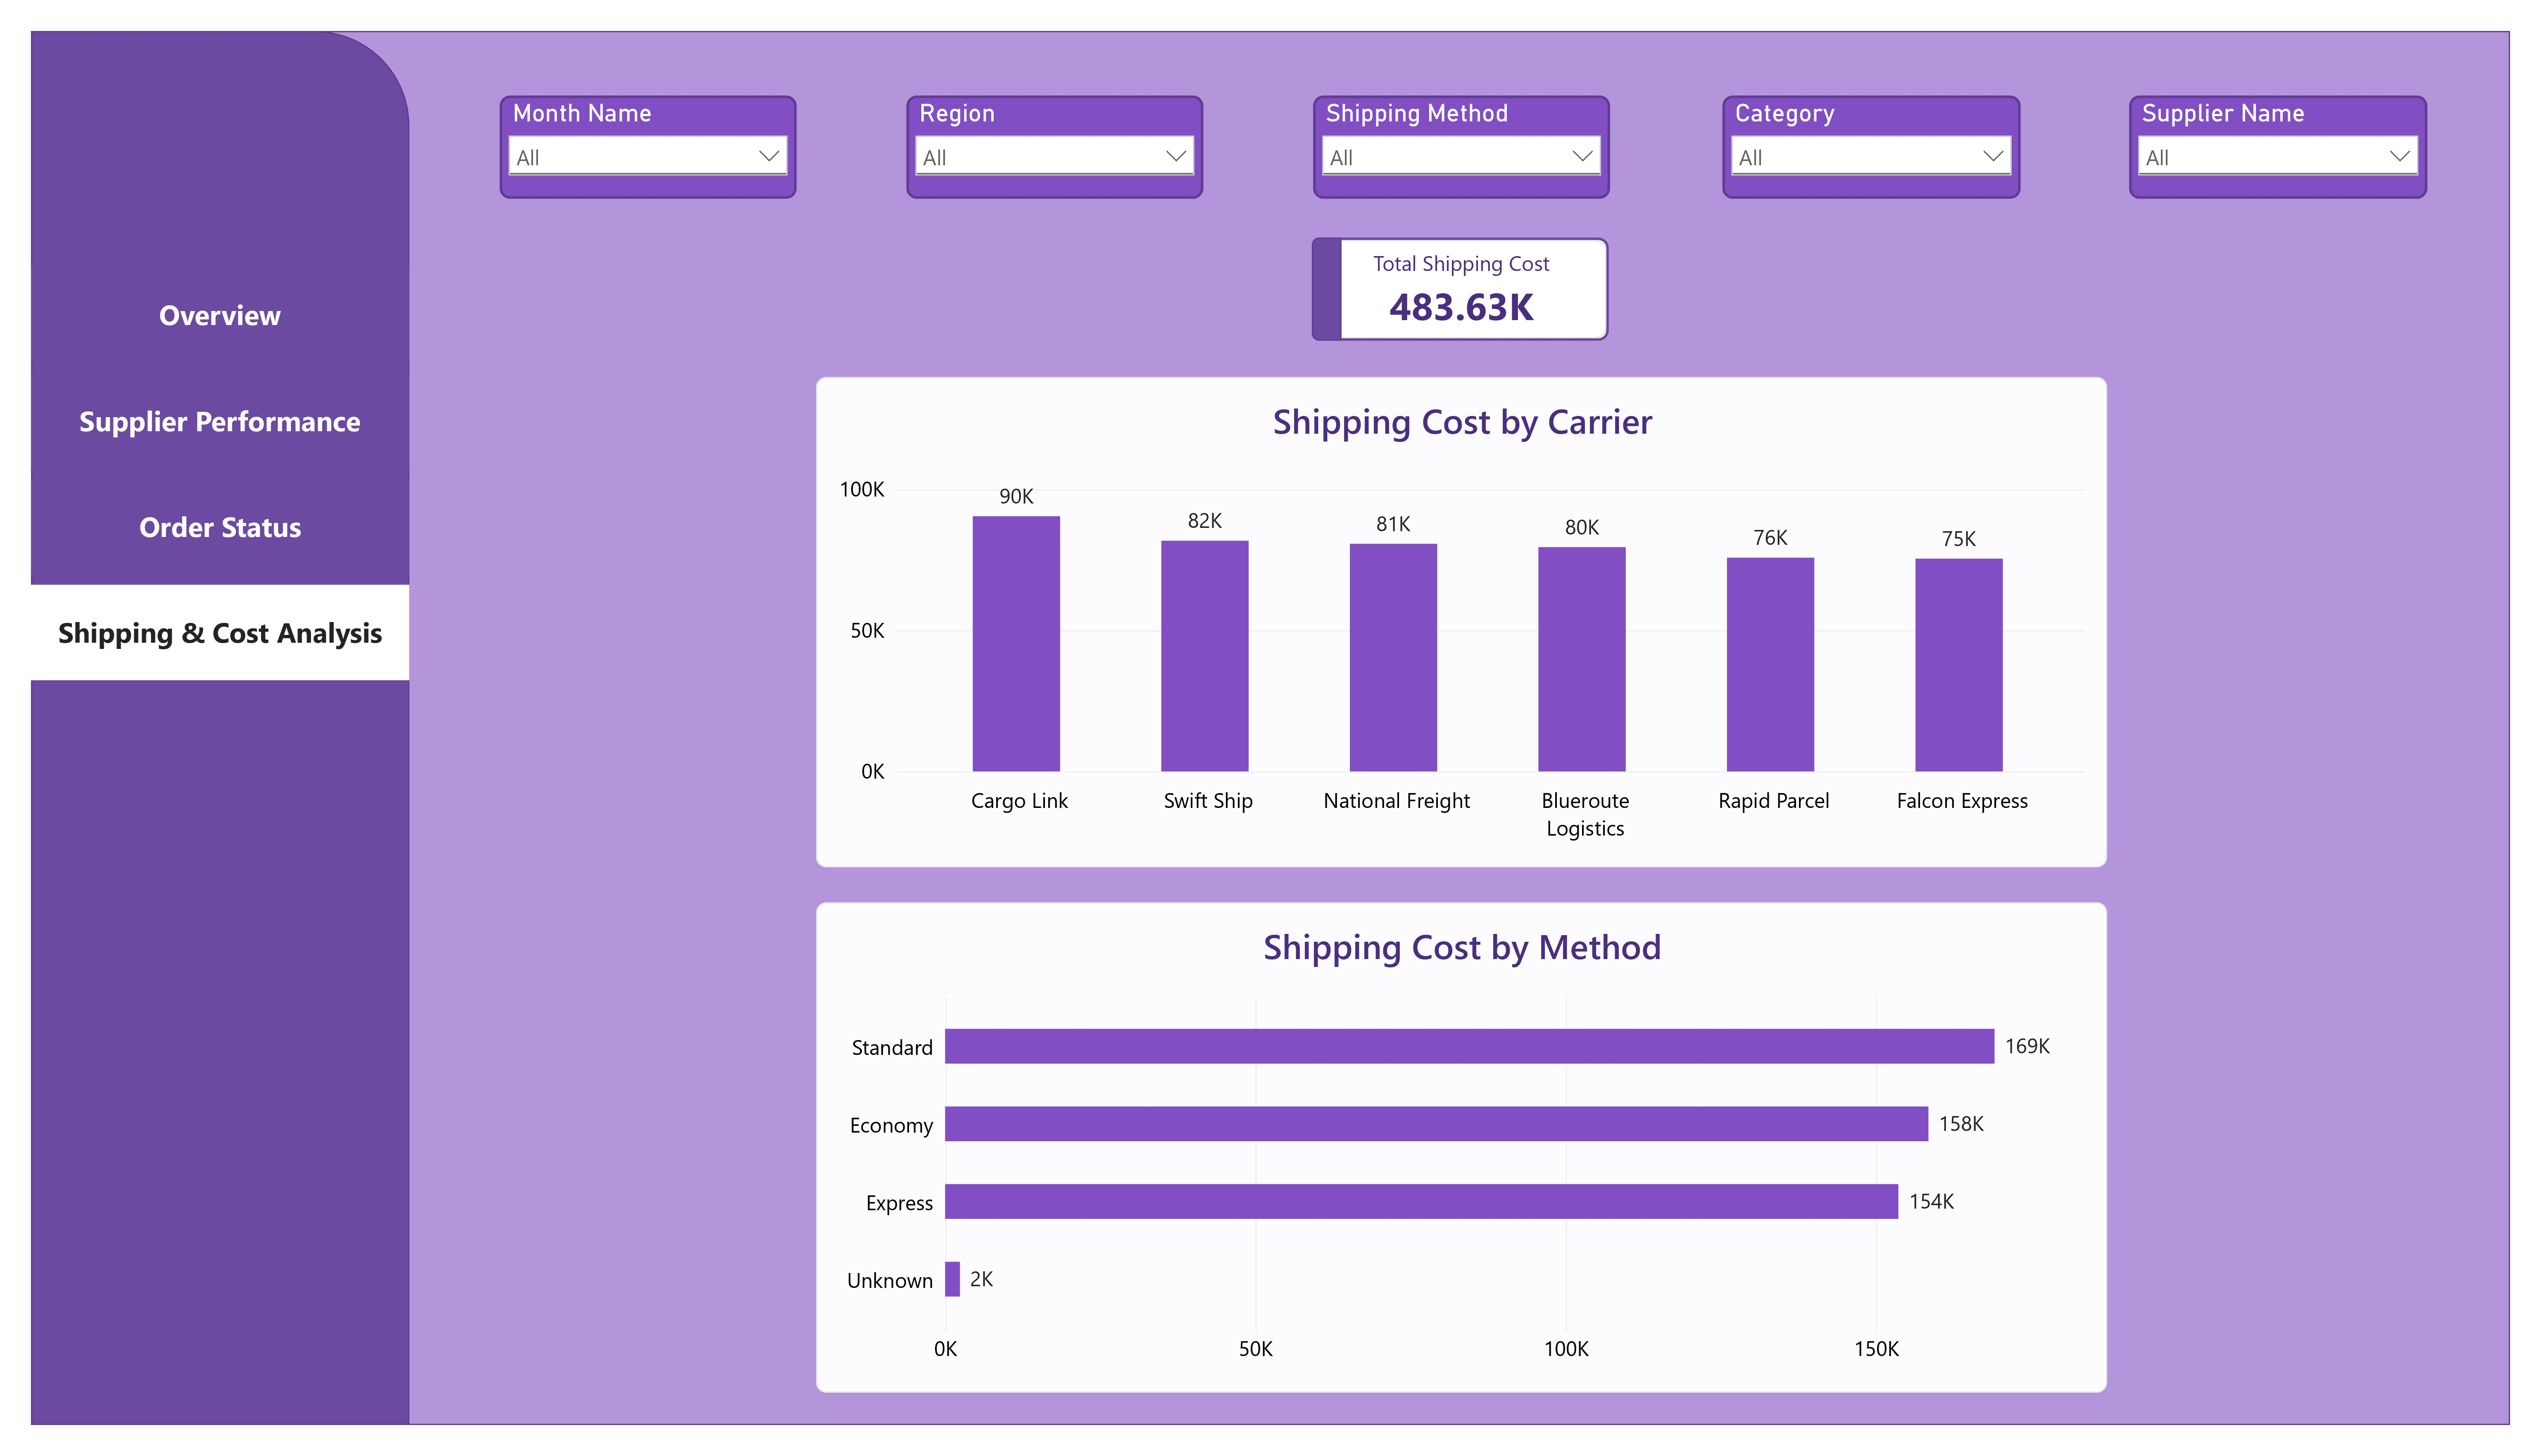

The page's visual inventory and layout, read from the dashboard file:
{"tool":"powerbi","page":{"name":"Shipping & Cost Analysis","canvas":[1920,1080],"ordinal":3},"visuals":[{"type":"shape","box":[0,0,1920,1080],"z":0},{"type":"shape","box":[0,0,292.5,1080],"z":1000},{"type":"clusteredColumnChart","title":"Shipping Cost by Carrier","fields":{"Category":["Carriers.Carrier Name"],"Y":["Orders.Total Shipping Cost"]},"box":[607.5,267.5,1000,380],"z":2000},{"type":"clusteredBarChart","title":"Shipping Cost by Method","fields":{"Category":["Orders.Shipping Method"],"Y":["Orders.Total Shipping Cost"]},"box":[607.5,675,1000,380],"z":3000},{"type":"cardVisual","fields":{"Data":["Orders.Total Shipping Cost"]},"box":[992.2,160,230,80],"z":4000},{"type":"pageNavigator","box":[0,182.5,292.5,320],"z":4000},{"type":"slicer","fields":{"Values":["Orders.Order Date.Variation.Date Hierarchy.Month"]},"box":[362.5,50.4,230,80],"z":5000},{"type":"slicer","fields":{"Values":["Orders.Destination Region"]},"box":[677.5,50.4,230,80],"z":6000},{"type":"slicer","fields":{"Values":["Orders.Shipping Method"]},"box":[992.5,50.4,230,80],"z":7000},{"type":"slicer","fields":{"Values":["Products.Category"]},"box":[1309.5,50,231.1,79.5],"z":8000},{"type":"slicer","fields":{"Values":["Suppliers.Supplier Name"]},"box":[1625.1,50,231.1,79.5],"z":9000},{"type":"shape","box":[992.2,160,22.9,80],"z":11000}]}

Visuals, with their boxes on the page's 1920x1080 design canvas (x1, y1, x2, y2). These are canvas units, not pixel positions in the 2541x1456 screenshot, which may show the page scaled, cropped or inside an application window:
shape: locate(0, 0, 1920, 1080)
shape: locate(0, 0, 292, 1080)
"Shipping Cost by Carrier" clusteredColumnChart: locate(608, 268, 1608, 648)
"Shipping Cost by Method" clusteredBarChart: locate(608, 675, 1608, 1055)
cardVisual - Orders.Total Shipping Cost: locate(992, 160, 1222, 240)
pageNavigator: locate(0, 182, 292, 502)
slicer - Orders.Order Date.Variation.Date Hierarchy.Month: locate(362, 50, 592, 130)
slicer - Orders.Destination Region: locate(678, 50, 908, 130)
slicer - Orders.Shipping Method: locate(992, 50, 1222, 130)
slicer - Products.Category: locate(1310, 50, 1541, 130)
slicer - Suppliers.Supplier Name: locate(1625, 50, 1856, 130)
shape: locate(992, 160, 1015, 240)
